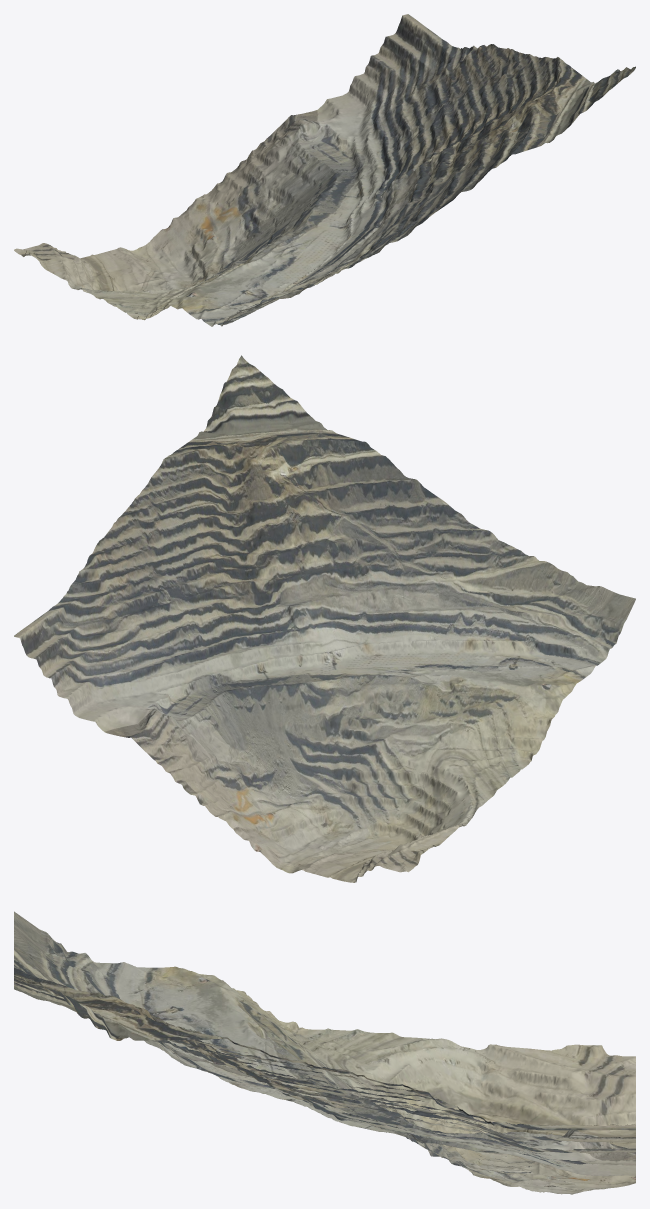
3 renders of one model, top to bottom at view 1: azimuth 30°, elevation 25°; view 2: azimuth 150°, elevation 25°; view 3: azimuth 270°, elevation 25°, orthographic. The views are drawn at different scales.
Parts seen in each view (by area): view 1: l2-2-1; view 2: l2-2-1; view 3: l2-2-1.
Boxes of the visible parts, left/top/right/bottom form: l2-2-1: left=14, top=14, right=635, bottom=326; l2-2-1: left=14, top=355, right=635, bottom=882; l2-2-1: left=14, top=911, right=635, bottom=1194.
Size of the model in its own units: 768 by 534 by 768.
1 material, 1 textured.
